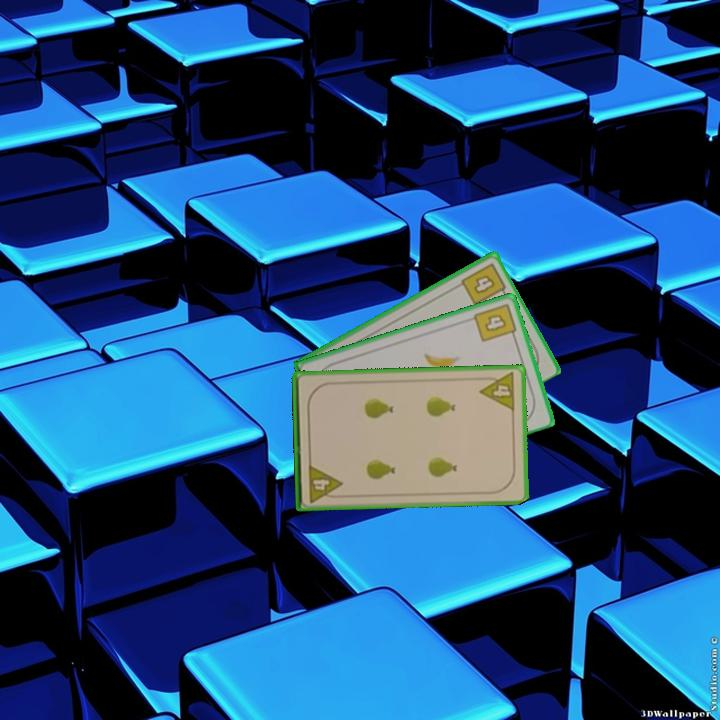4b: (457, 259, 510, 308), (470, 299, 519, 345)
4p: (476, 369, 518, 414), (305, 461, 345, 505)
